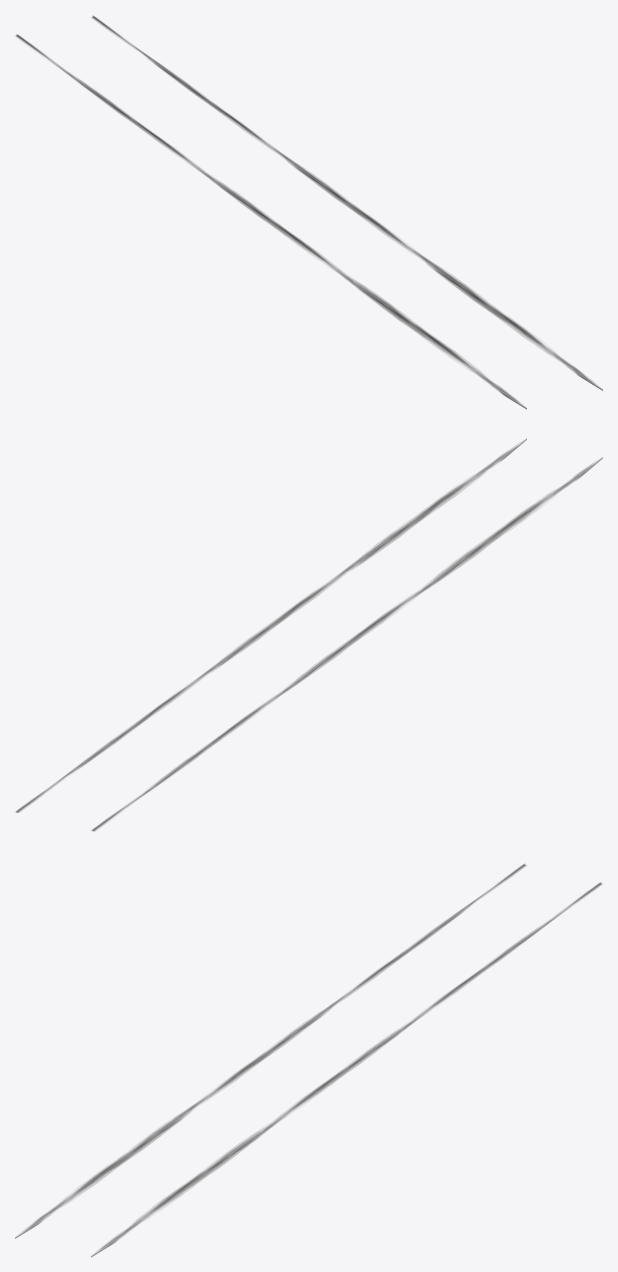
Rendered from airplane_minii_contrail.glb.
3 views of the same model, one above another, from view 1: azimuth 30°, elevation 25°; view 2: azimuth 150°, elevation 25°; view 3: azimuth 330°, elevation 25° (orthographic).
Visible parts, largest first — view 1: clouds.png__; view 2: clouds.png__; view 3: clouds.png__.
Boxes of the visible parts, x1=… form: clouds.png__: x1=15, y1=16, x2=602, y2=409; clouds.png__: x1=15, y1=438, x2=602, y2=831; clouds.png__: x1=15, y1=864, x2=602, y2=1257.
Bounding box in the file's own units: 58.01 × 7.94 × 581.
Materials: 1 (1 with a texture image).
